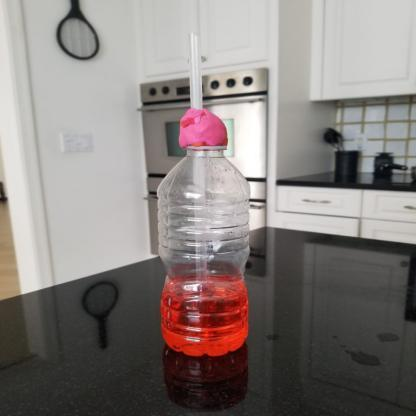bottle: (148, 99, 276, 362)
